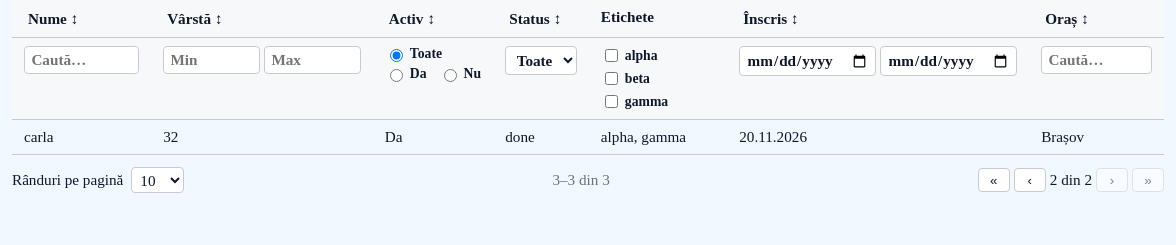
Test case: DataTable filtering › filter activation resets pageIndex to 0
This screenshot has width=1176, height=245.
Check: the cell "carla" is shown, box [12,120,151,155]
Type "a" into the search field named "Filtrează Nume" at coordinates (82, 60), box [24,46,139,74]
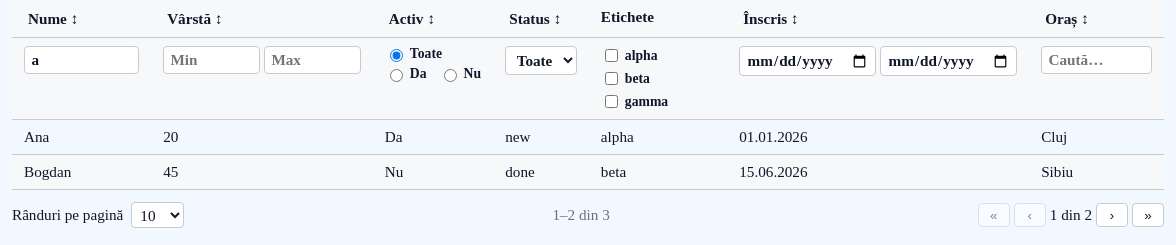
Check: the cell "Ana" is shown, box [12,120,151,155]
